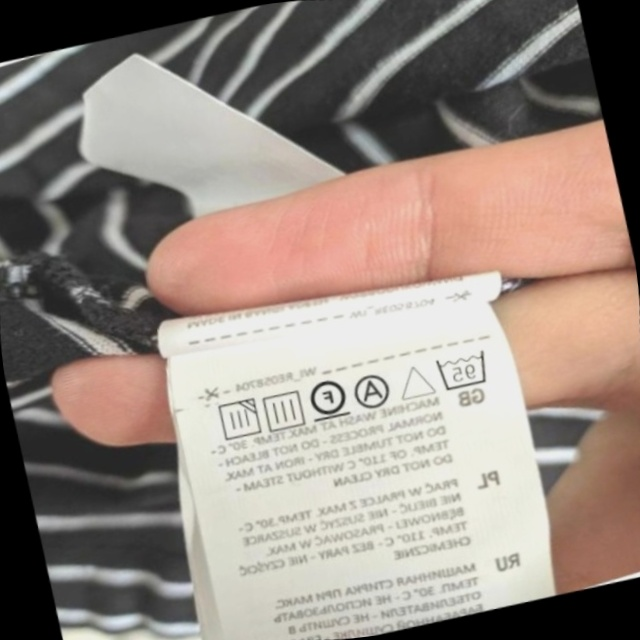95C: (427, 340, 498, 400)
bleach: (391, 353, 441, 408)
drip_dry: (254, 381, 314, 439)
drip_dry_in_shade: (206, 390, 268, 451)
dry_clean: (347, 365, 399, 416)
dry_clean_petrol_only: (299, 368, 356, 429)
